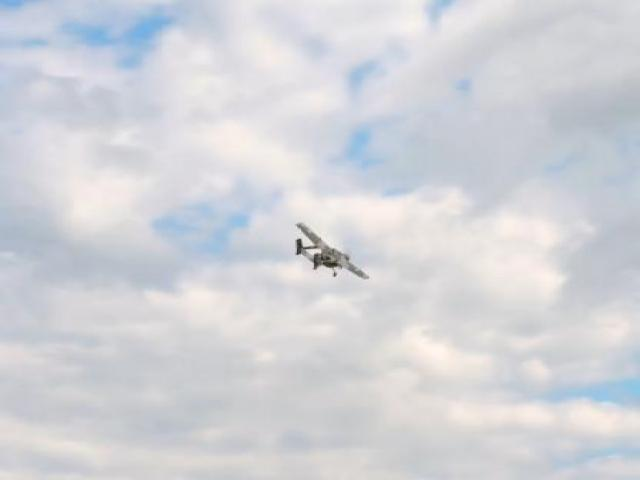uav: (292, 219, 372, 283)
